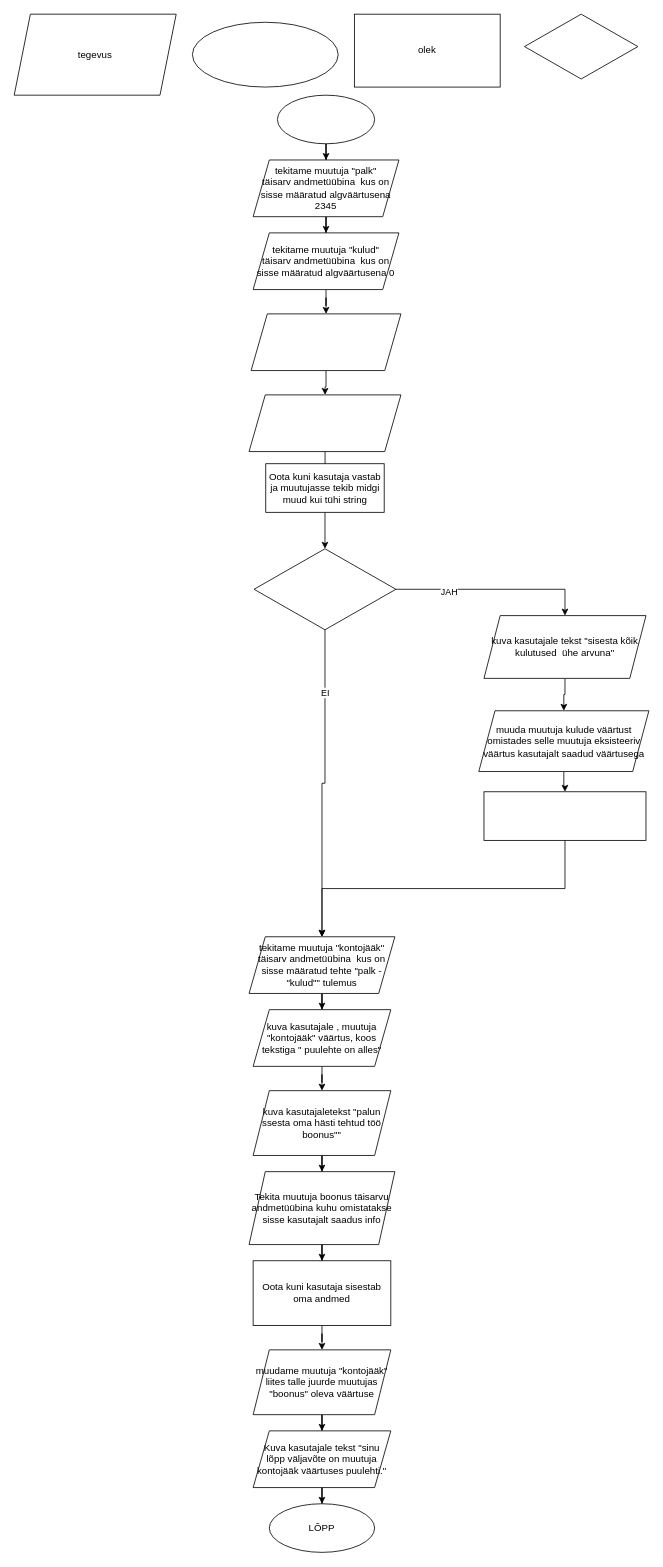
Image size: 663x1567. Some labels were removed from this diagram. Each missing label, with the box of its shape:
algus: (277, 94, 375, 144)
kas kasutaja sisestatud väärtus muutujasse "kasutajavastus" on jah: (253, 548, 396, 630)
kuva kasutajael tekst "kas see kuu väljaminekuid / kulusid oli ?" jah / ei: (250, 313, 401, 371)
Ootame kuni kasutja sisetab uue väärtuse.: (483, 791, 646, 840)
otsus: (524, 13, 638, 79)
Programmi algus: (192, 21, 338, 87)
Tekita muutuja "kasutajavastus" tekstitüüpi mille algväärtus on tühi string: (248, 394, 401, 452)
